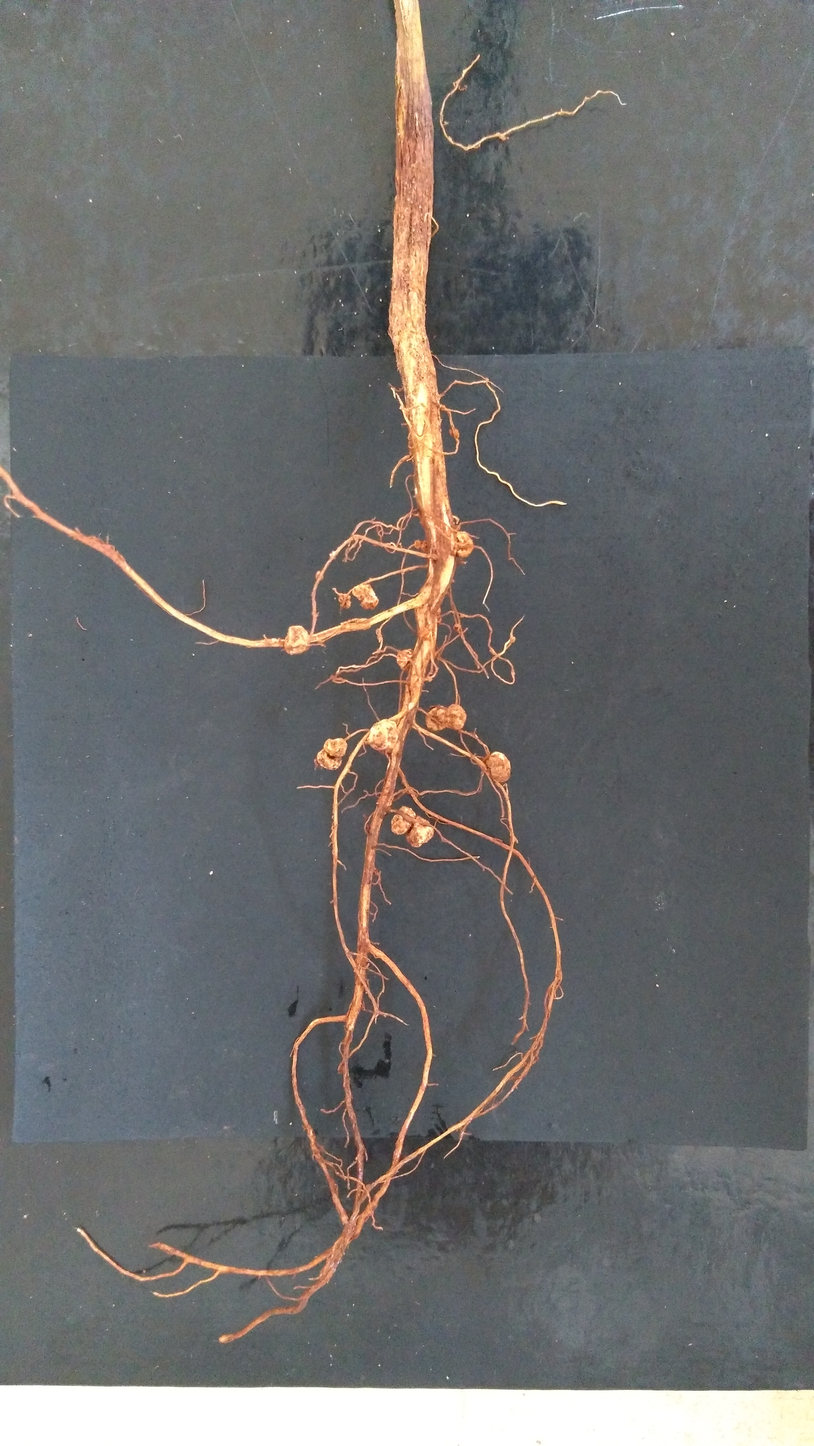nodule: (391, 805, 434, 848), (424, 703, 467, 731), (367, 718, 400, 754), (316, 738, 347, 771), (485, 750, 512, 782), (351, 583, 380, 610), (283, 625, 309, 655), (455, 530, 474, 558), (339, 617, 371, 632), (395, 648, 414, 670), (337, 592, 351, 608), (433, 605, 443, 625), (414, 539, 429, 552), (449, 428, 460, 439), (314, 570, 324, 581), (453, 622, 462, 632)
